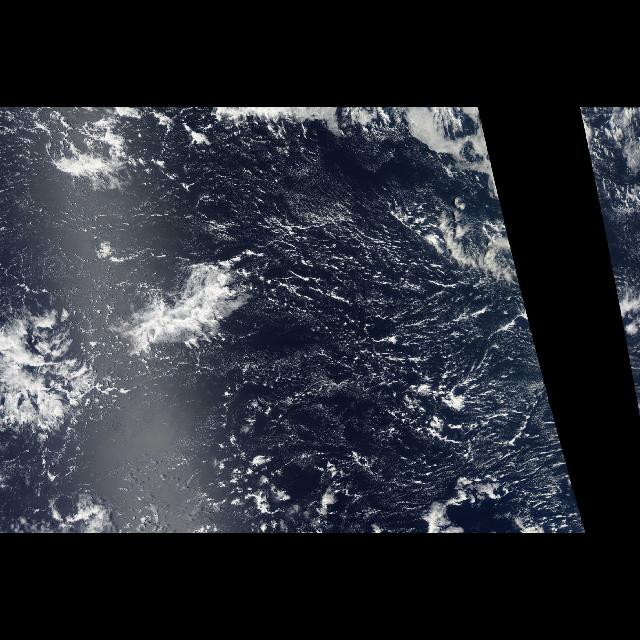Fish: (12, 233, 250, 457), (11, 120, 240, 198)
Gravel: (262, 183, 566, 524)
Sugar: (4, 178, 520, 500)
